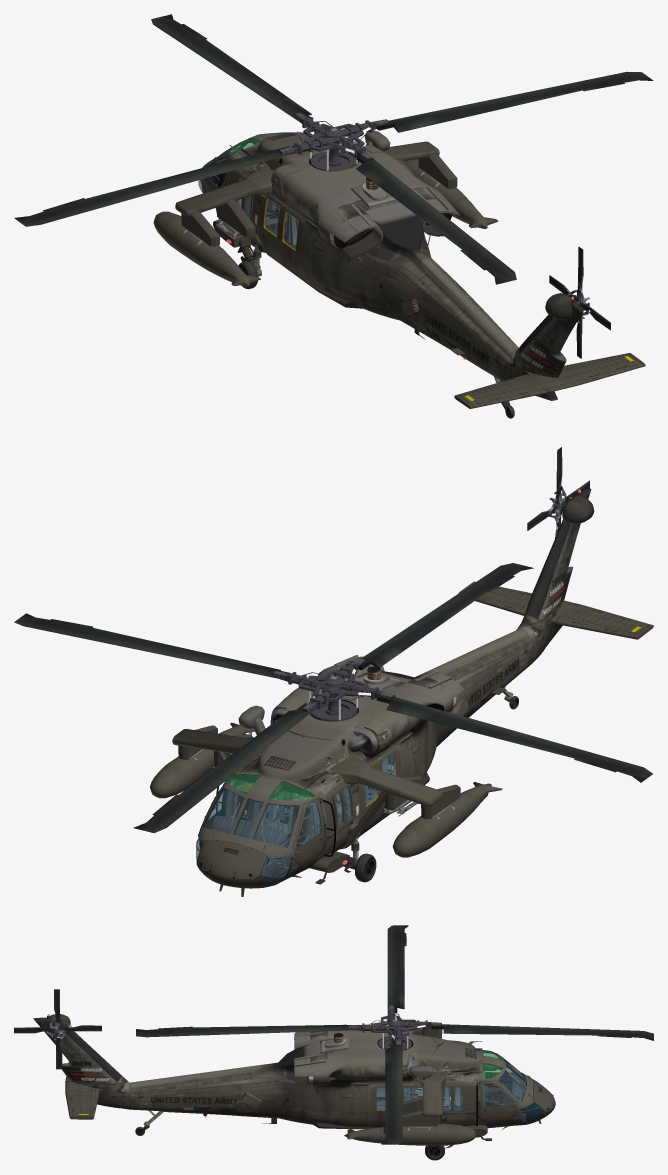
3 renders of one model, top to bottom at view 1: azimuth 30°, elevation 25°; view 2: azimuth 150°, elevation 25°; view 3: azimuth 270°, elevation 25°, orthographic. The views are drawn at different scales.
Visible parts, largest first — view 1: Fuselage, Rotor, Elevator, Door.l, RearRotor; view 2: Fuselage, Rotor, Elevator, CabinDoor.l, Door.l, RearRotor; view 3: Fuselage, Rotor, CabinDoor.r, RearRotor, Elevator, Door.r.
Part boxes in pixels (<box>): Fuselage: <box>153,130,584,413</box>; Rotor: <box>14,14,653,284</box>; Elevator: <box>454,353,645,408</box>; Door.l: <box>260,195,307,279</box>; RearRotor: <box>549,246,610,358</box>; Fuselage: <box>150,488,594,896</box>; Rotor: <box>14,563,652,832</box>; Elevator: <box>458,581,653,639</box>; CabinDoor.l: <box>290,798,324,875</box>; Door.l: <box>359,746,404,833</box>; RearRotor: <box>527,447,589,538</box>; Fuselage: <box>33,1014,555,1148</box>; Rotor: <box>136,925,653,1144</box>; CabinDoor.r: <box>479,1080,519,1124</box>; RearRotor: <box>14,989,101,1069</box>; Elevator: <box>65,1061,99,1119</box>; Door.r: <box>368,1086,422,1127</box>.
Bounding box in the file's own units: 230 × 75.64 × 284.
